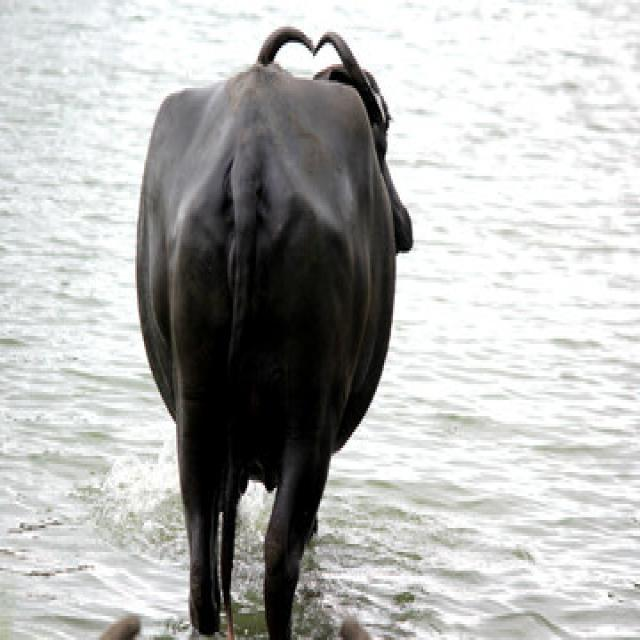Buffalo: (132, 22, 414, 638)
